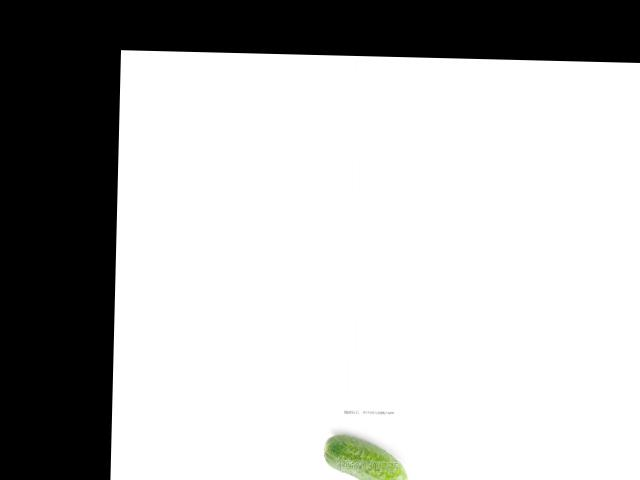cucumber: (322, 433, 408, 480)
